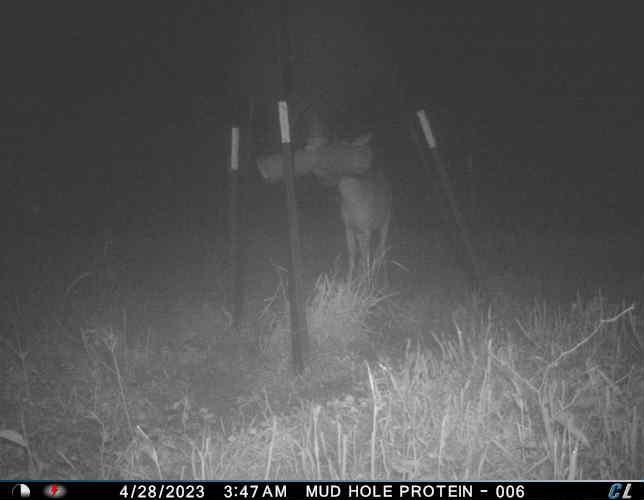Deer: (329, 130, 394, 292)
